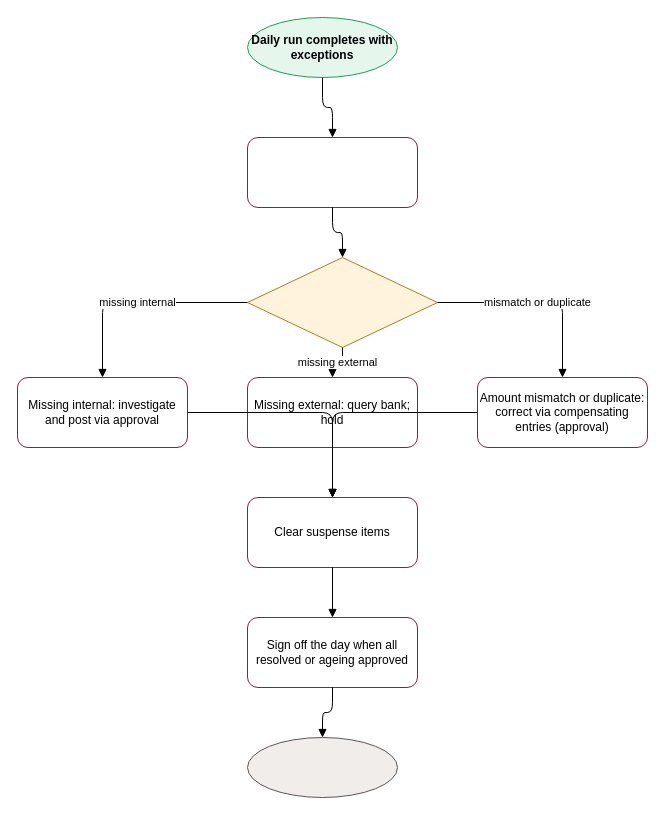
The diagram is 665 pixels wide and 815 high, and some of its shapes have lost their labels. Each missing label, with the box of its shape:
Assign exception to finance: (246, 136, 418, 208)
Exception type: (246, 256, 438, 348)
Report published: (246, 736, 398, 798)
